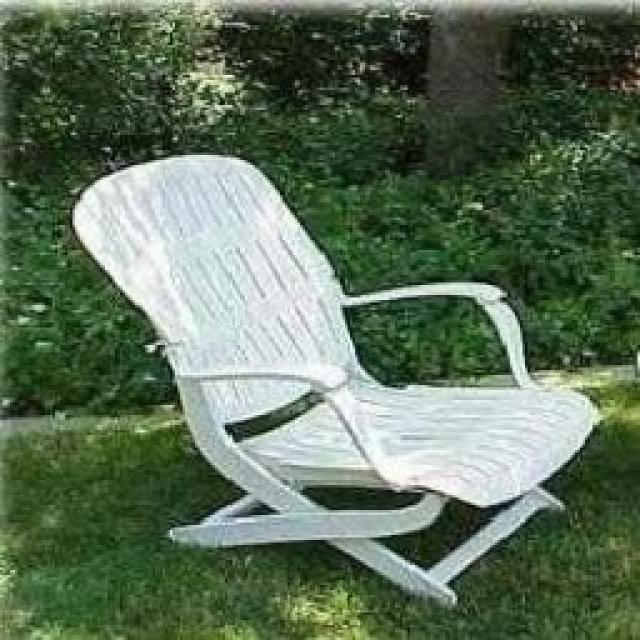sandalye: (70, 150, 600, 610)
